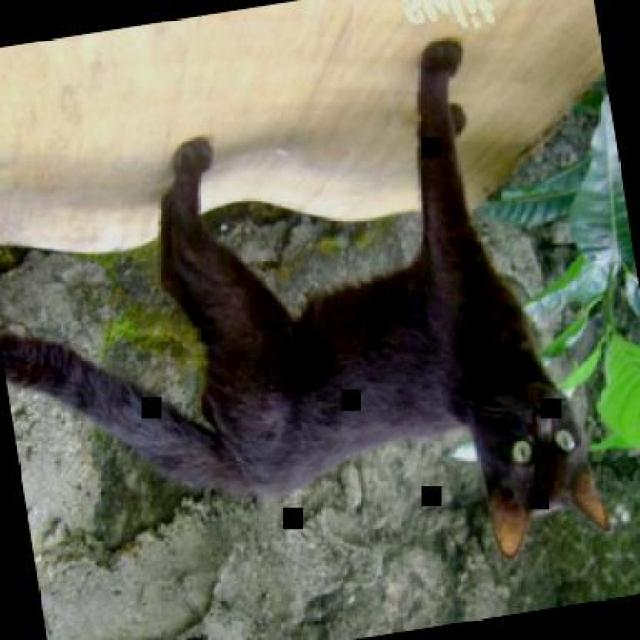cat: (0, 26, 615, 633)
